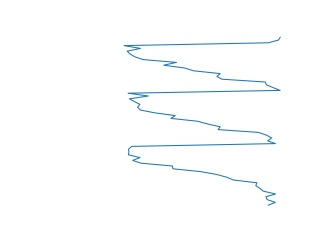distributaryMouthBar: (122, 37, 282, 206)
